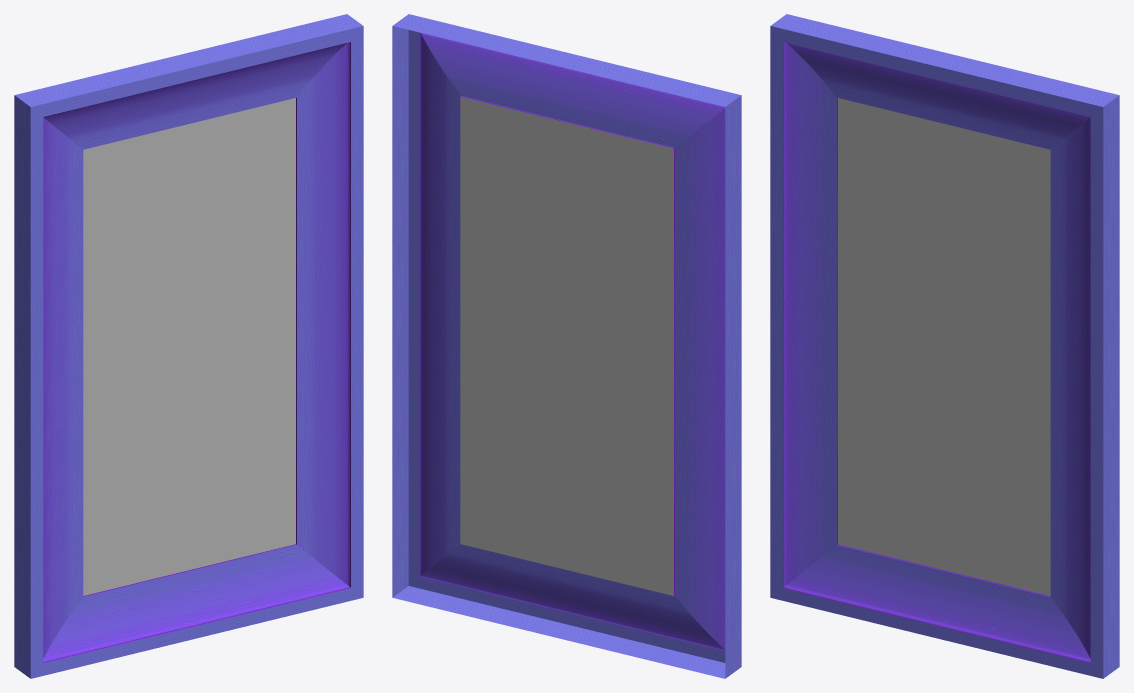
3 renders of one model, left to right at view 1: azimuth 30°, elevation 25°; view 2: azimuth 150°, elevation 25°; view 3: azimuth 330°, elevation 25°, orthographic.
Parts seen in each view (by area): view 1: _14_27_frame, _14_27; view 2: _14_27_frame, _14_27; view 3: _14_27_frame, _14_27.
Boxes of the visible parts, x1,y1,x2,y2 form: _14_27_frame: (14,14,363,678); _14_27: (83,98,295,595); _14_27_frame: (392,14,741,678); _14_27: (460,97,673,595); _14_27_frame: (770,14,1119,678); _14_27: (838,98,1050,595).
Bounding box in the file's own units: 93.42 × 153 × 7.92.
